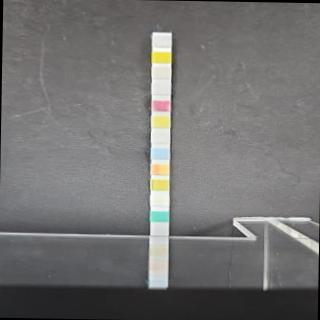mark: (150, 130, 170, 142), (153, 34, 170, 48), (150, 146, 169, 158), (150, 210, 168, 222), (150, 178, 168, 190), (152, 82, 170, 94), (152, 66, 170, 78), (150, 194, 168, 205), (151, 115, 168, 126), (152, 100, 170, 110), (153, 52, 171, 62), (152, 163, 168, 174)
